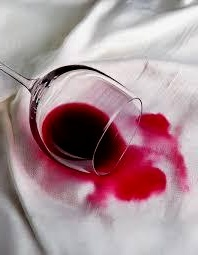wine: (39, 141, 167, 198), (133, 111, 184, 194)
